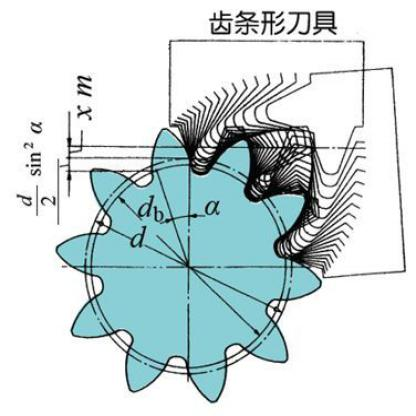FOD: (50, 120, 325, 406)
